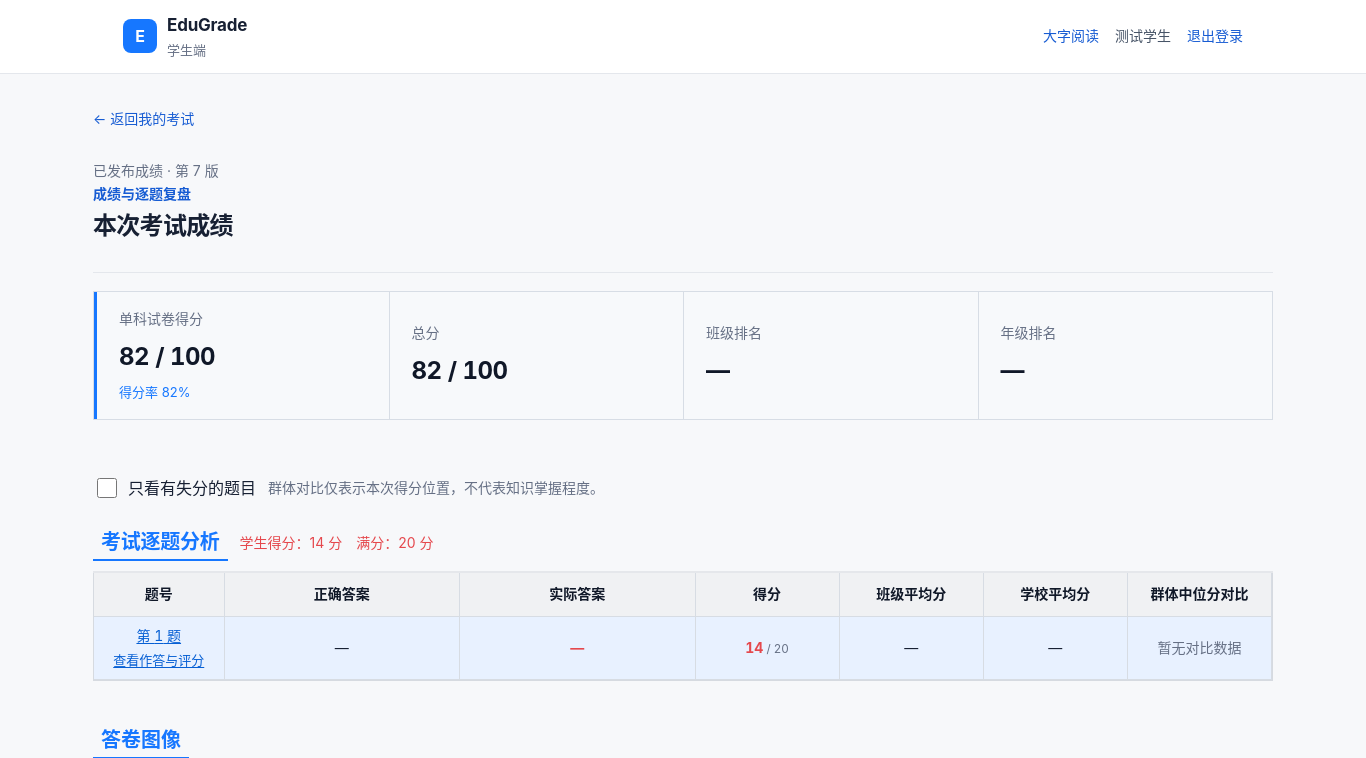
Test: Student Portal released-score boundaries › renders public question feedback without exposing internal grading metadata
Check: the element labelled "总分" is shown, box top-left (93, 292), bottom-right (1273, 420)
Click the button with aria-label "14 / 20 分" at (159, 648), box top-left (104, 623), bottom-right (214, 673)
(page scrolled)
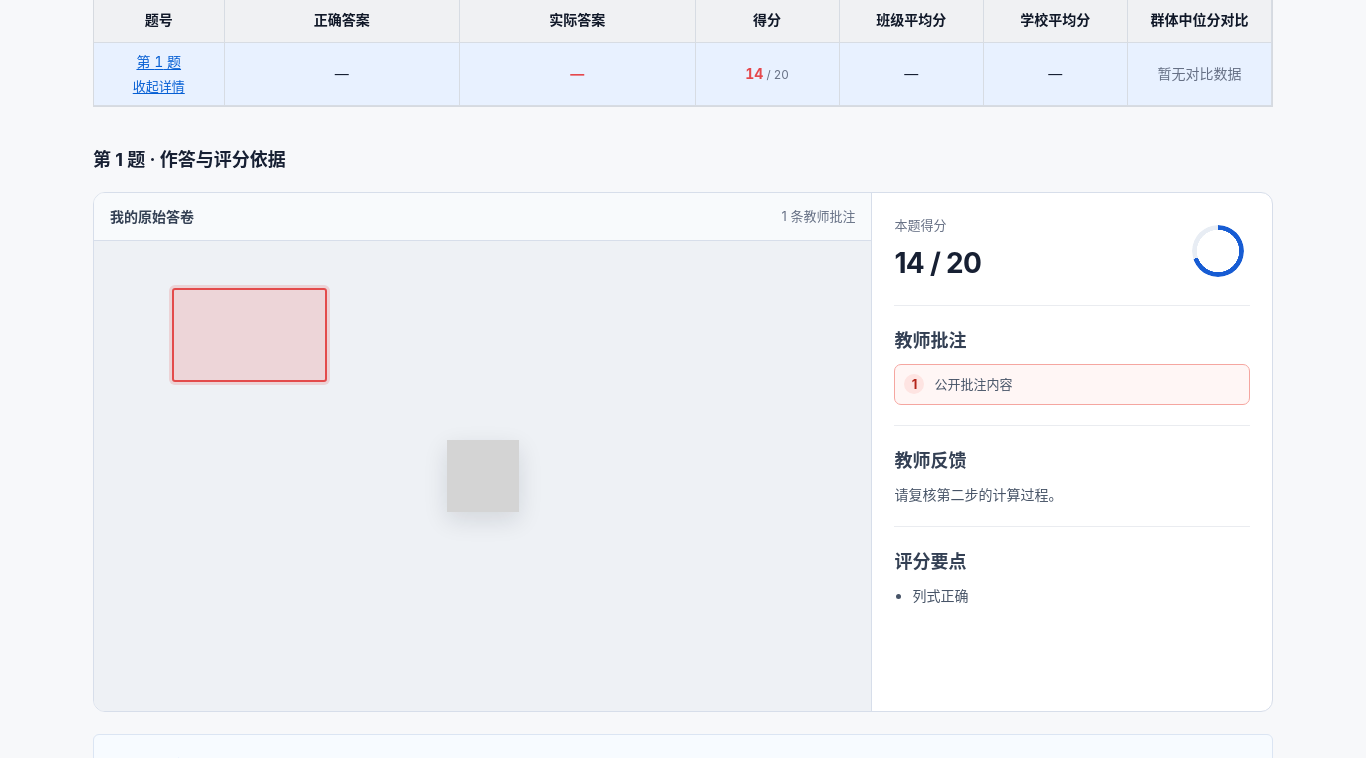
Check: the text "请复核第二步的计算过程。" is shown, box top-left (894, 486), bottom-right (1062, 503)
Check: the button "1 公开批注内容" is shown, box top-left (894, 364), bottom-right (1250, 404)
